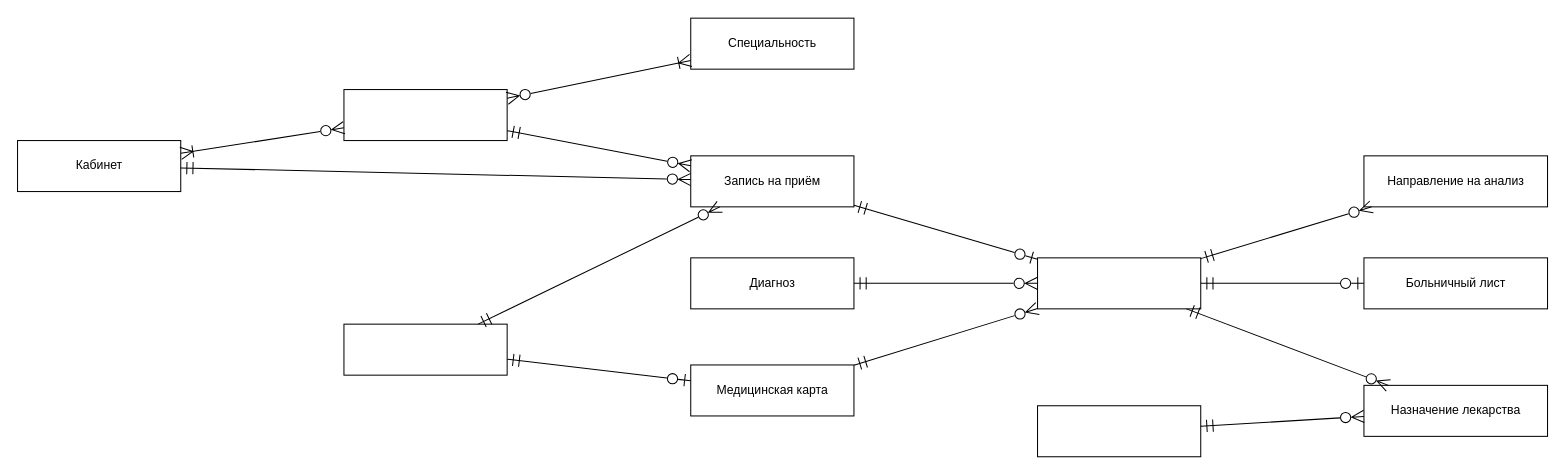
Image size: 1566x474. Some labels were removed from this diagram. Here are the shapes that lost their labels. From the top down, the centre of each, then its label:
the point at 425,115: Врач
the point at 1119,283: Приём
the point at 425,349: Пациент
the point at 1119,431: Лекарство
